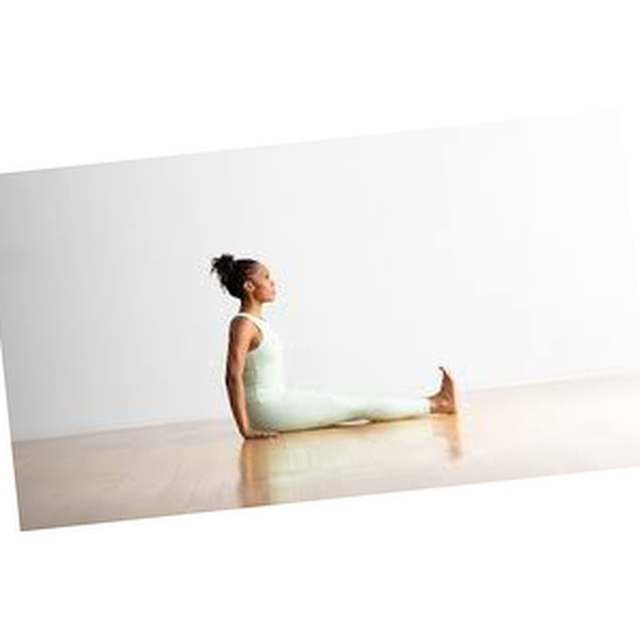Staff_Pose: (209, 253, 456, 442)
